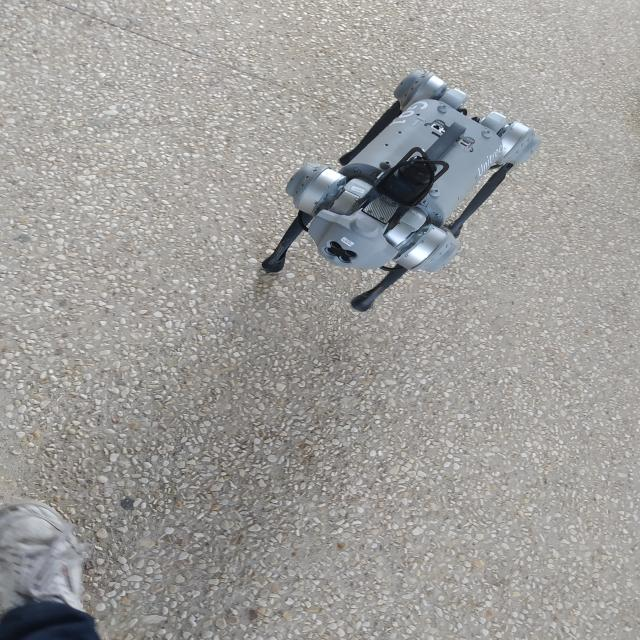unitree-go1-robot: (255, 65, 548, 321)
